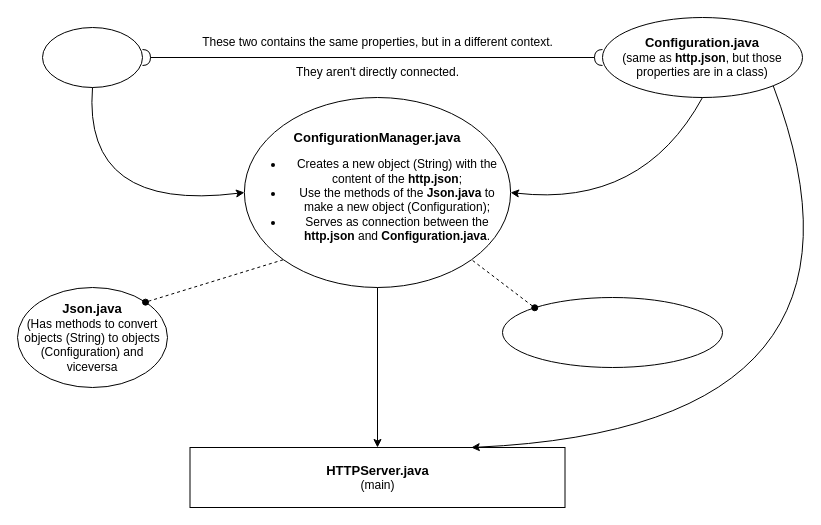
Some shapes in this 821 by 525 pixel diagram are drawn without their labels. The shapes that lost their labels are listed below. From the top down, each one's box as (x1, y1, x2, y2) in pixels, then its label:
(42, 26, 142, 88): http.json (file with port and webRoot)
(502, 296, 722, 368): HTTPConfigurationException.java
